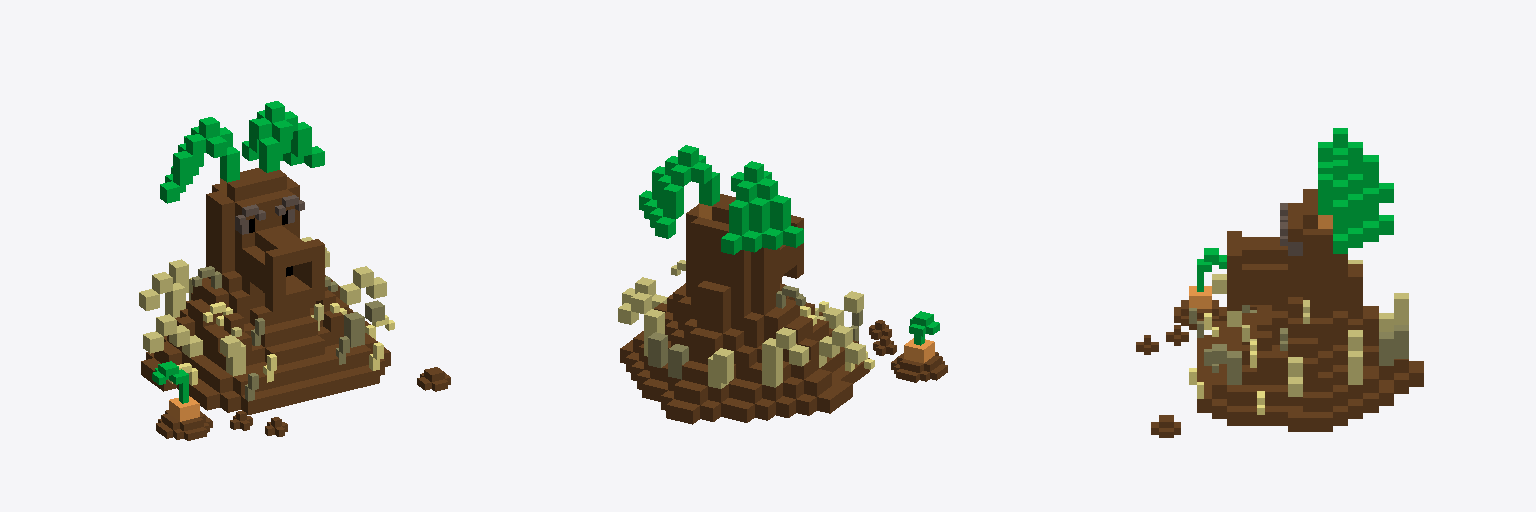
3 views of the same model, side by side, from view 1: azimuth 30°, elevation 25°; view 2: azimuth 150°, elevation 25°; view 3: azimuth 270°, elevation 25° (orthographic).
Visible parts, largest first — view 1: Model; view 2: Model; view 3: Model.
Boxes of the visible parts, box(x1,y1,x2,y2) form: Model: box(139, 101, 450, 440); Model: box(618, 145, 947, 424); Model: box(1136, 128, 1423, 437).
Size of the model in its own units: 20.5 by 17 by 19.
Materials: 1 (1 with a texture image).